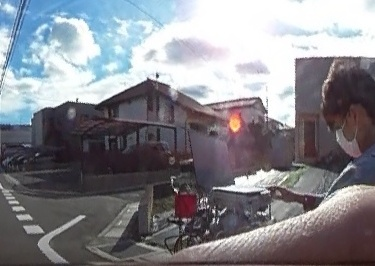person: (288, 61, 375, 206)
